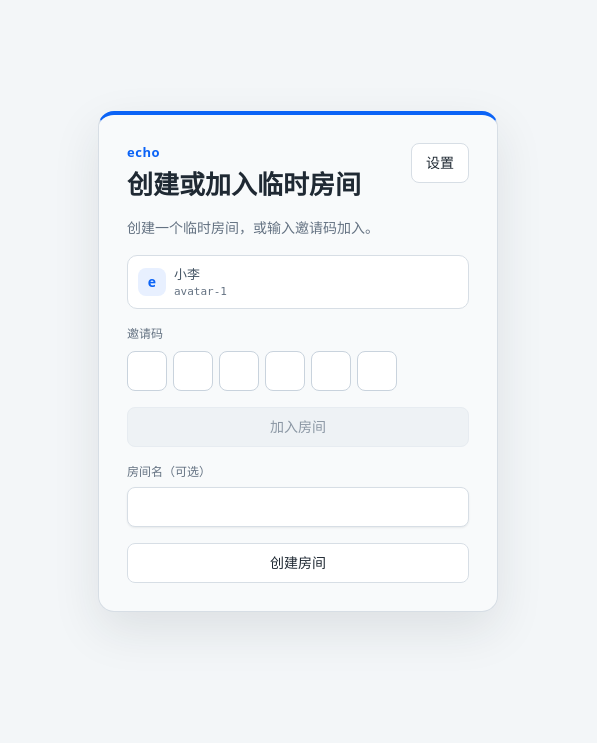
Test case: App local settings entry › shows the homepage for a saved nickname and opens settings on demand
The image size is (597, 743).
Expected: the heading "创建或加入临时房间" is shown, [127, 166, 361, 200]
Click the button "设置" at (440, 162), box [411, 142, 469, 182]
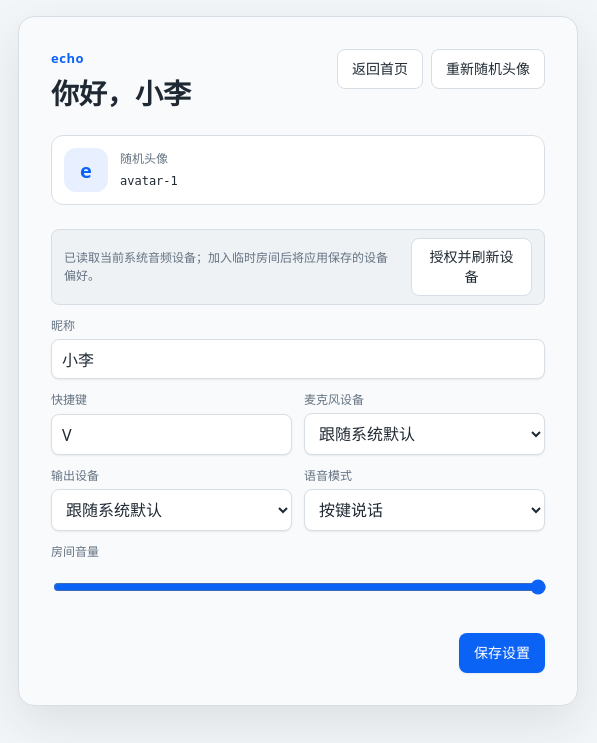
Expected: the heading "你好，小李" is shown, [51, 75, 191, 111]
